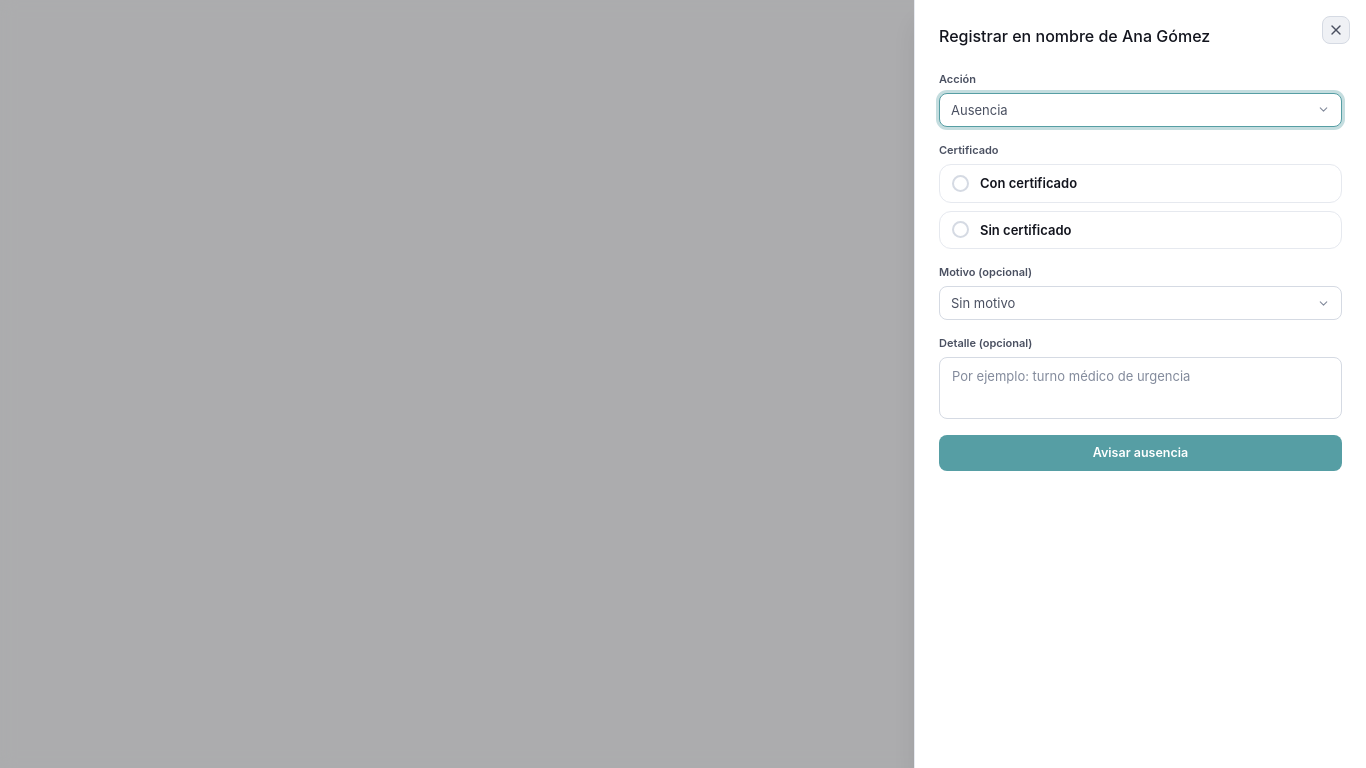
Scenario: RecordAttendanceSheet › ausencia: exige elegir con o sin certificado antes de avisar
Click the button "Avisar ausencia". click: (1140, 453)
box: [939,435,1342,471]
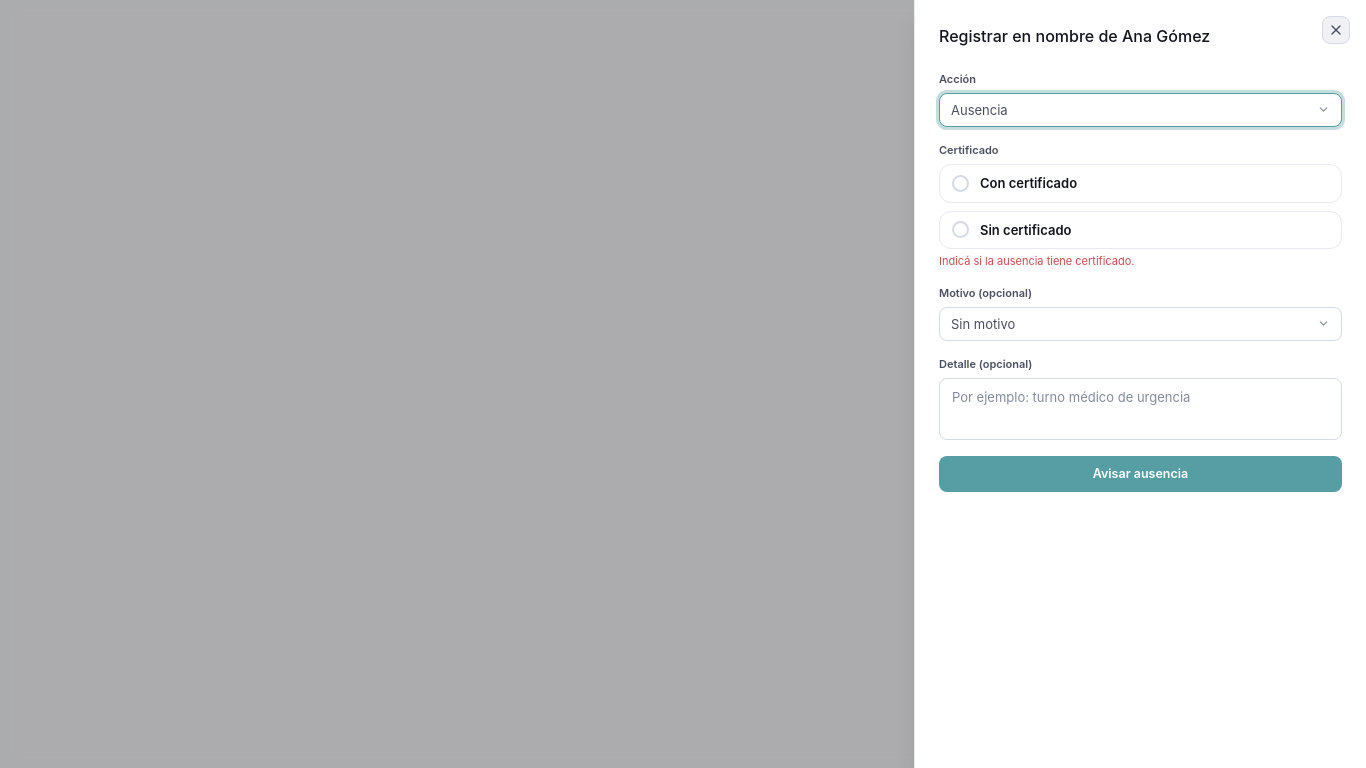
Expected: the text "Indicá si la ausencia tiene certificado." is shown, [939,254,1134,268]
